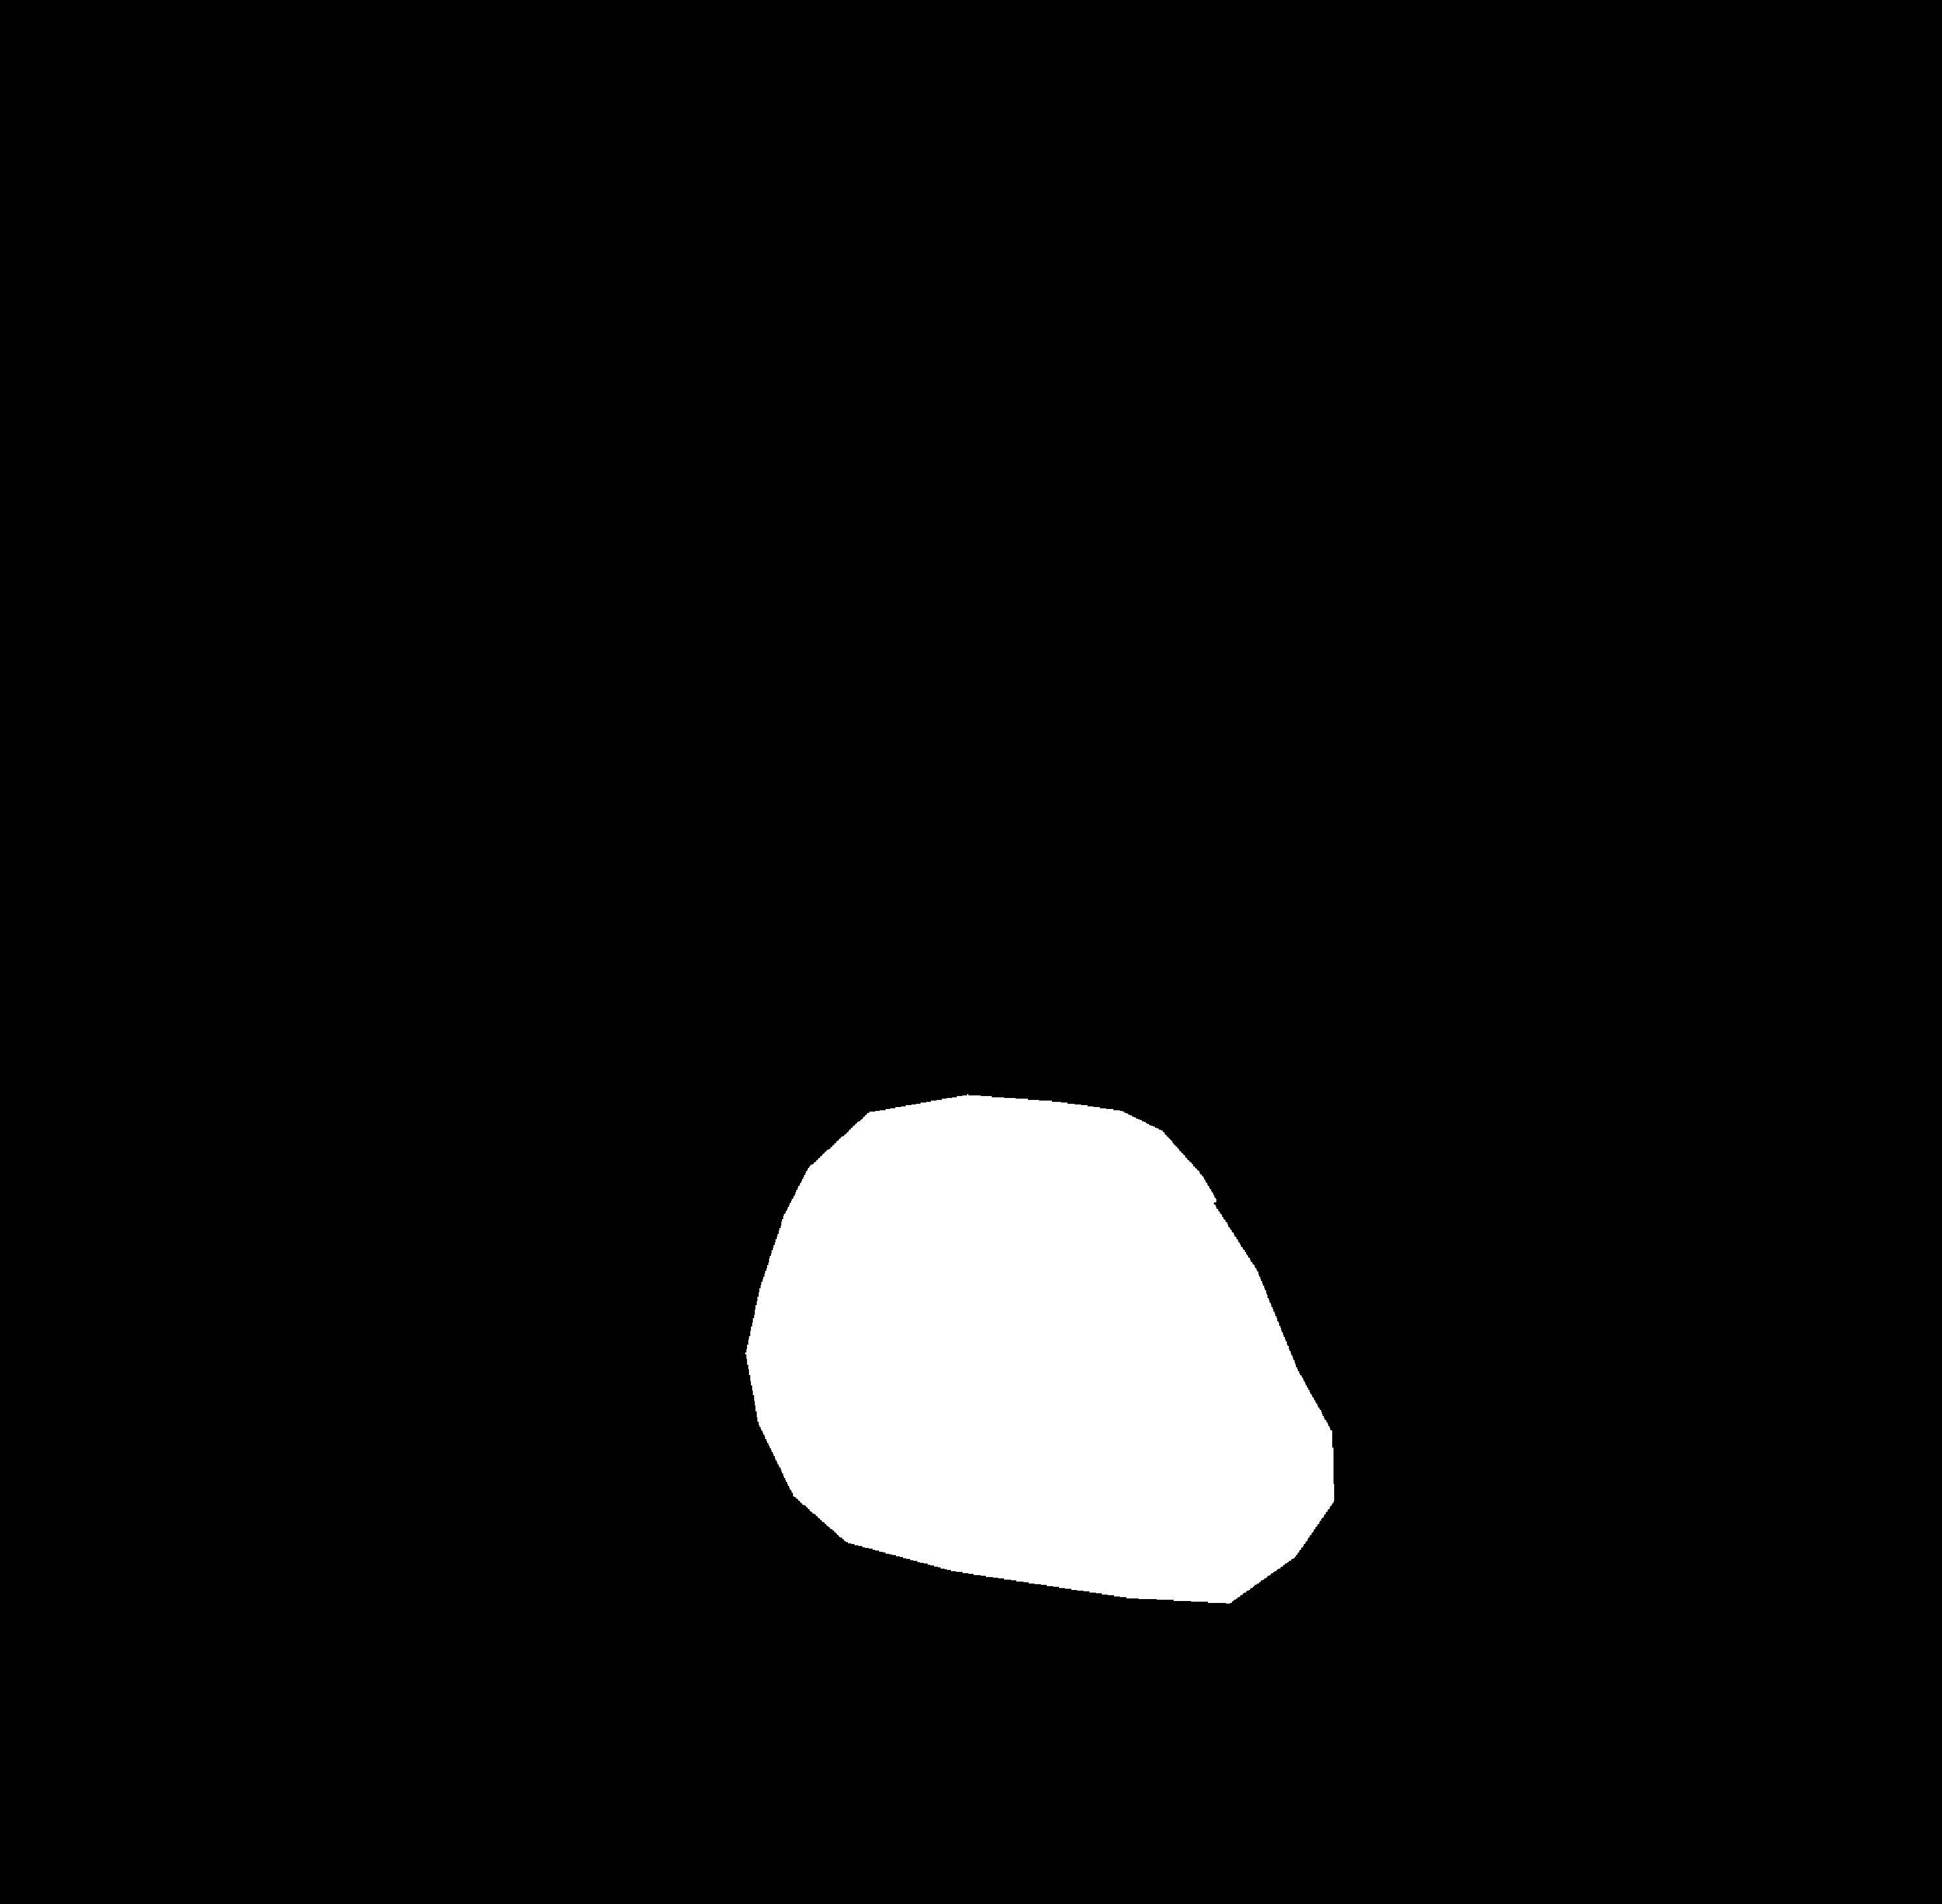heart: (751, 1159, 1375, 1648)
left_lung: (261, 340, 936, 1799)
right_lung: (1076, 323, 1670, 1831)
